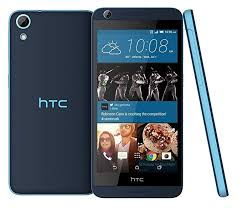htc: (87, 4, 184, 199), (6, 7, 94, 196)
